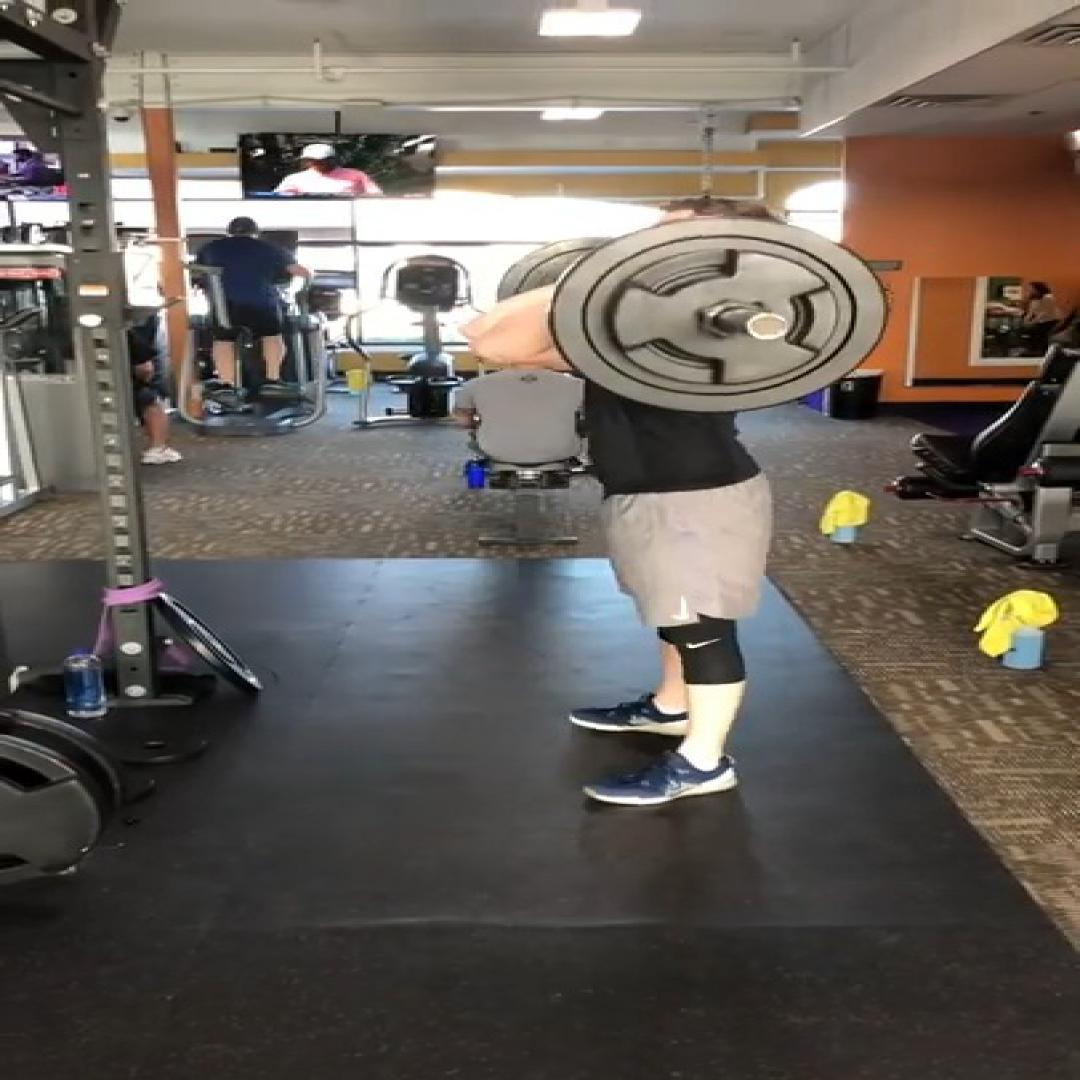Bar: (742, 312, 793, 340)
Barbell: (545, 216, 891, 414)
